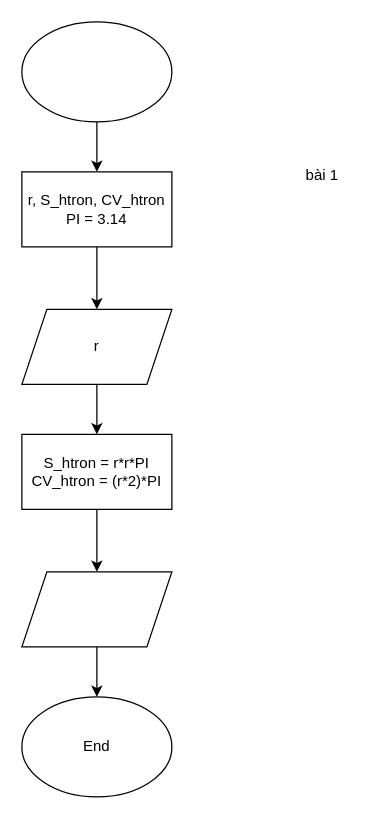
The diagram is 375 pixels wide and 819 high, and some of its shapes have lost their labels. The centre of each missing label's shape, as x and y in pixels:
S_htron CV_htron: the point at 96,609
Start: the point at 96,71
